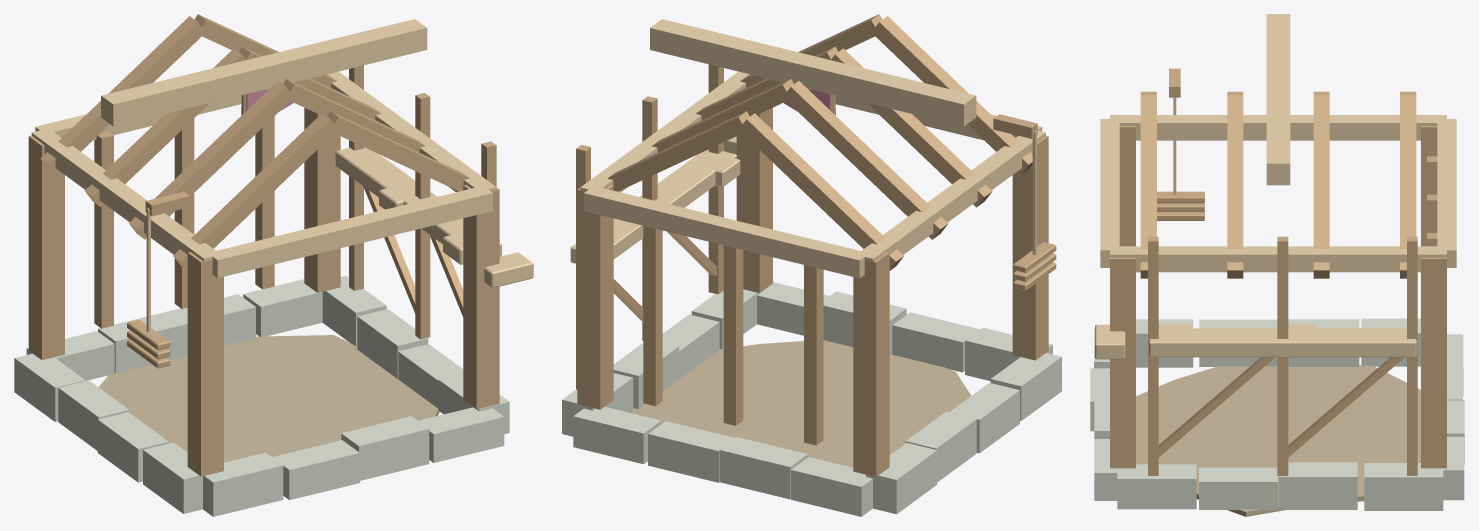
The model's file is world_construction_site_2.fbx.
3 renders of one model, left to right at view 1: azimuth 30°, elevation 25°; view 2: azimuth 150°, elevation 25°; view 3: azimuth 270°, elevation 25°, orthographic. The views are drawn at different scales.
Parts seen in each view (by area): view 1: world_construction_site_2_mesh; view 2: world_construction_site_2_mesh; view 3: world_construction_site_2_mesh.
Part boxes in pixels (box(x1,y1,x2,y2)): world_construction_site_2_mesh: box(14, 14, 533, 516); world_construction_site_2_mesh: box(562, 14, 1061, 516); world_construction_site_2_mesh: box(1090, 14, 1464, 516).
Size of the model in its own units: 1.84 by 1.77 by 1.73.
